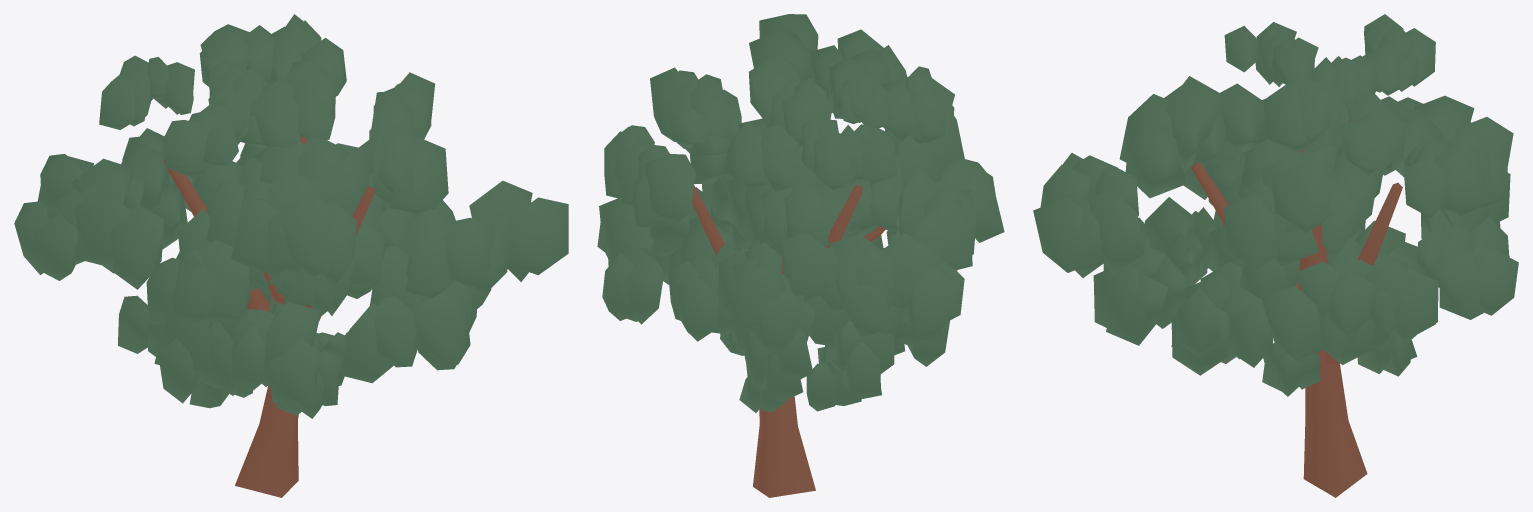
The model's file is Blender_RMJuniper_2_Far.glb.
3 views of the same model, side by side, from view 1: azimuth 30°, elevation 25°; view 2: azimuth 150°, elevation 25°; view 3: azimuth 270°, elevation 25° (orthographic). The views are drawn at different scales.
Parts seen in each view (by area): view 1: Blender_RMJuniper_2_Far; view 2: Blender_RMJuniper_2_Far; view 3: Blender_RMJuniper_2_Far.
Part boxes in pixels (x1,y1,x2,y2): Blender_RMJuniper_2_Far: (14,14,568,497); Blender_RMJuniper_2_Far: (597,14,1004,497); Blender_RMJuniper_2_Far: (1033,14,1518,497).
Size of the model in its own units: 6.18 by 6.5 by 6.86.
